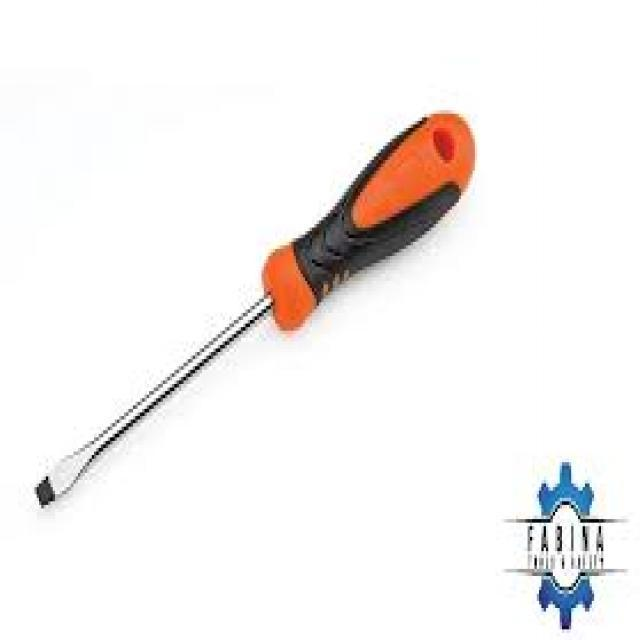screwdriver: (29, 108, 480, 510)
